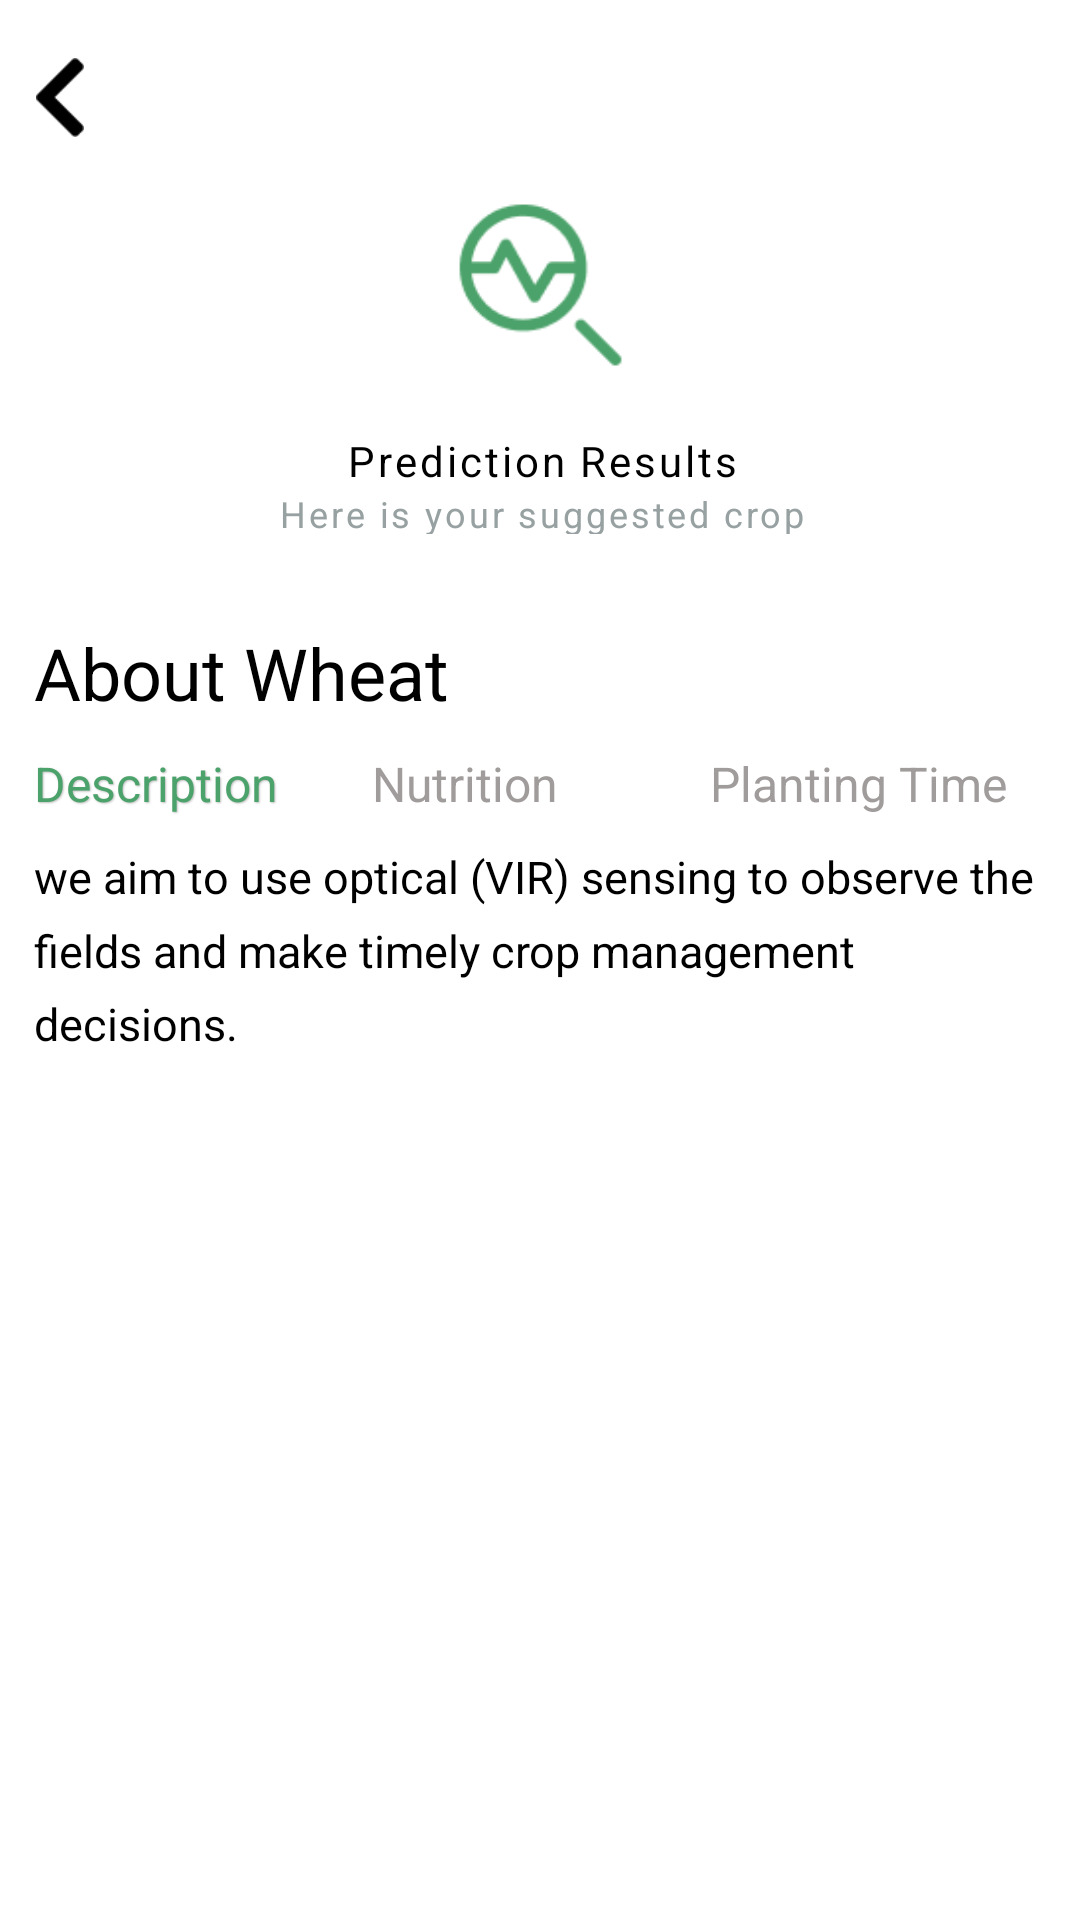

Icon click points for this 1080px x 1920px phone screenshot, format point (x, y):
backicon: point (60, 97)
diagoniseicon: point (540, 285)
